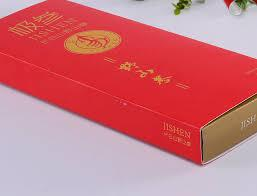Cardboard: (1, 2, 257, 164)
